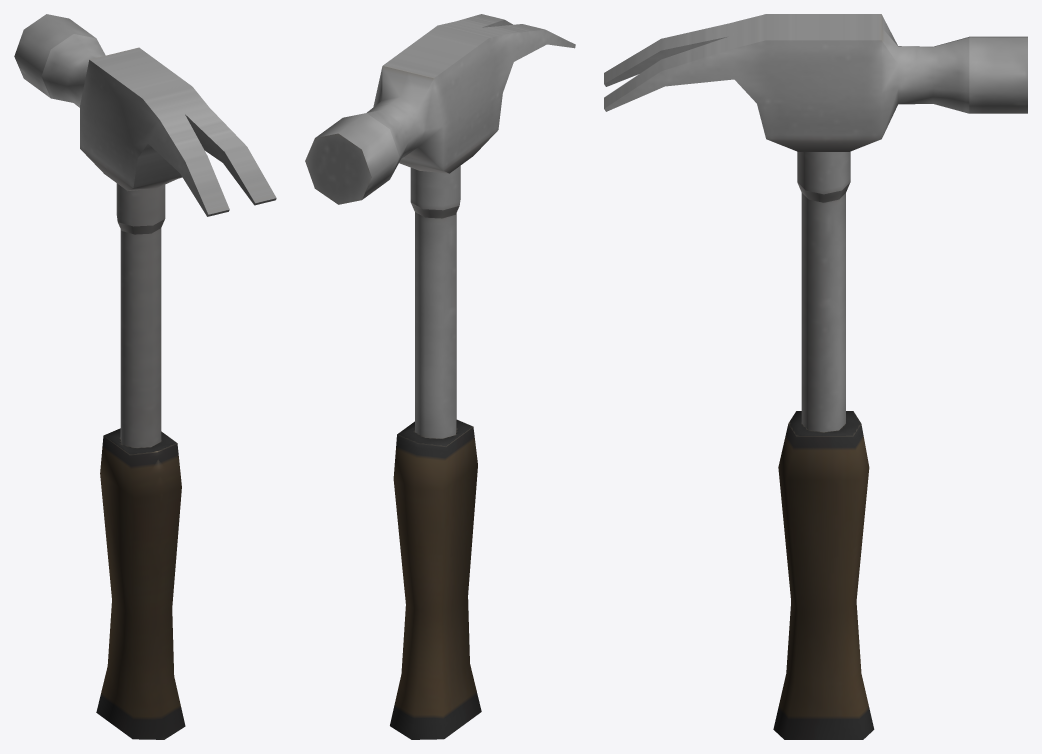
File: Hammer.fbx
The picture shows the model from 3 angles, left to right: view 1: azimuth 30°, elevation 25°; view 2: azimuth 150°, elevation 25°; view 3: azimuth 270°, elevation 25°; orthographic projection. The views are drawn at different scales.
Parts seen in each view (by area): view 1: Hammer.X_Hammer; view 2: Hammer.X_Hammer; view 3: Hammer.X_Hammer.
Boxes of the visible parts, x1,y1,x2,y2 form: Hammer.X_Hammer: (14, 14, 276, 739); Hammer.X_Hammer: (305, 14, 575, 739); Hammer.X_Hammer: (604, 14, 1027, 739).
Bounding box in the file's own units: 0.0273 × 0.2469 × 0.135.
